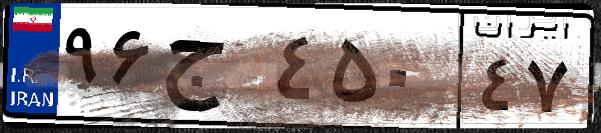0: (385, 28, 445, 110)
4: (270, 28, 330, 110), (475, 38, 525, 113)
5: (330, 28, 385, 110)
6: (110, 28, 158, 98)
7: (525, 38, 570, 115)
9: (57, 26, 110, 100)
ج: (158, 20, 270, 120)
